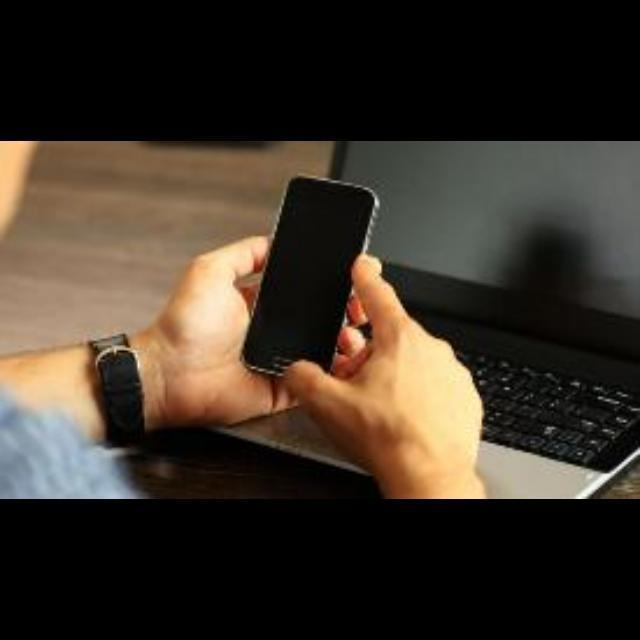PhoneUse: (240, 174, 380, 378)
